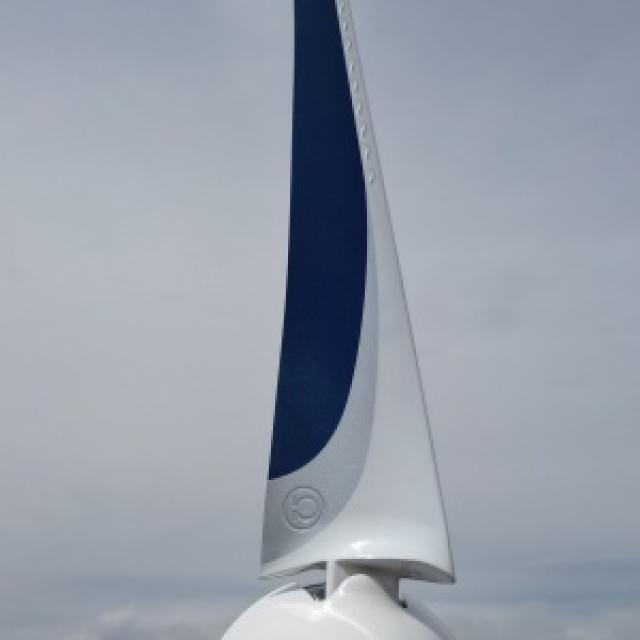healthy: (222, 0, 452, 638)
